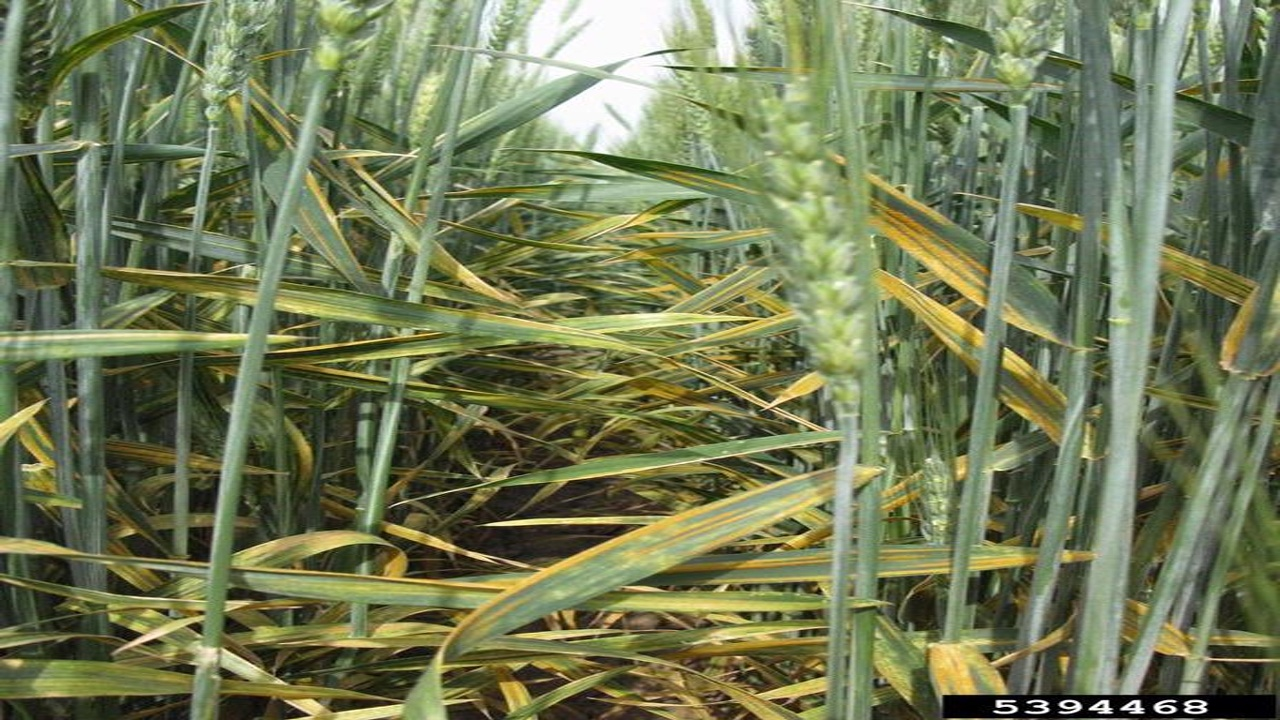stripe_rust: (125, 3, 529, 446), (10, 259, 841, 440), (404, 465, 872, 720), (1, 538, 869, 630), (956, 191, 1280, 330), (592, 126, 887, 245), (571, 541, 1094, 601), (1, 656, 408, 720), (1076, 587, 1210, 663), (924, 635, 1011, 698)
